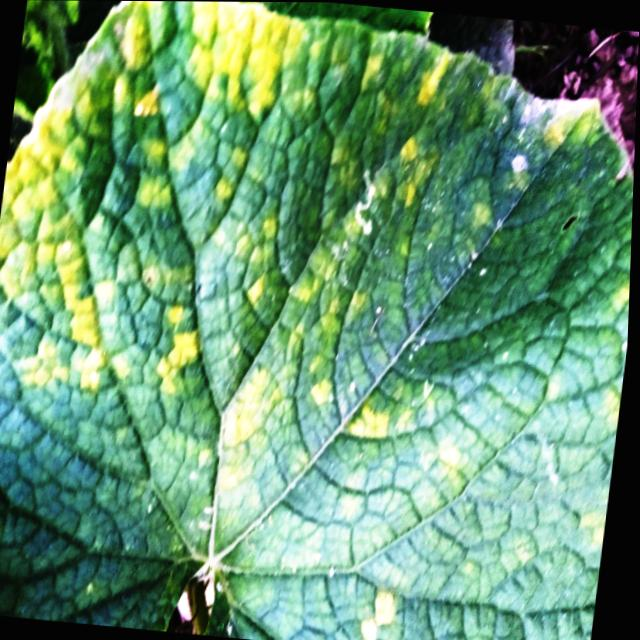Downy-Mildew: (0, 1, 635, 640)
